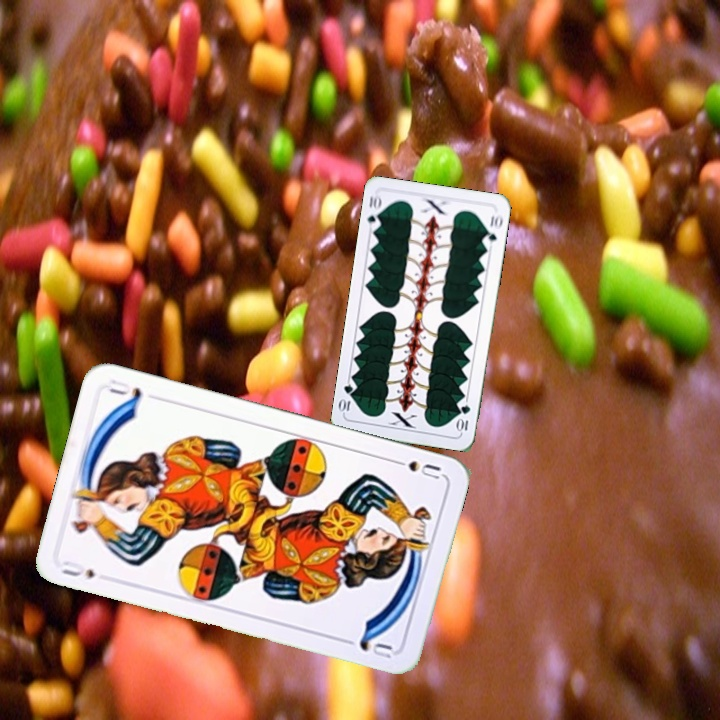G10: (363, 191, 384, 232), (454, 401, 473, 435)
SU: (387, 455, 445, 482), (57, 556, 98, 581)
